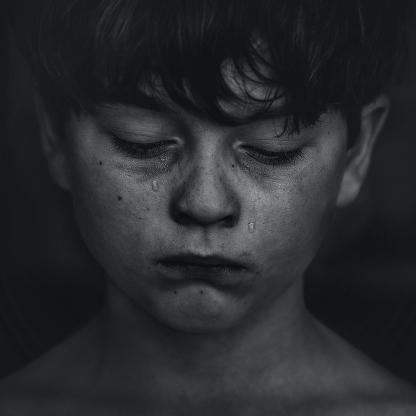Eye: (105, 120, 179, 162), (237, 131, 310, 166)
Mouth: (153, 246, 250, 282)
Nose: (172, 148, 238, 223)
